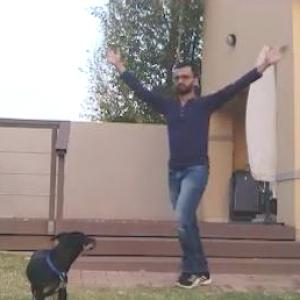takeoff: (110, 51, 299, 299)
